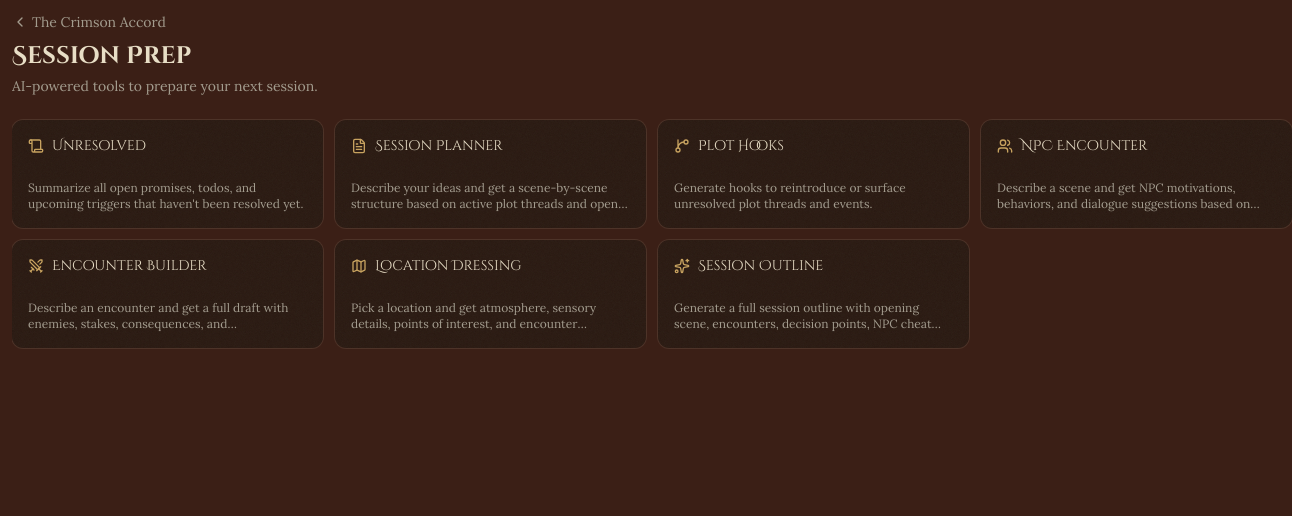
SessionPrep › shows loading state while generating
Click the text "Unresolved". click: (168, 174)
box: x1=12 y1=120 x2=323 y2=228
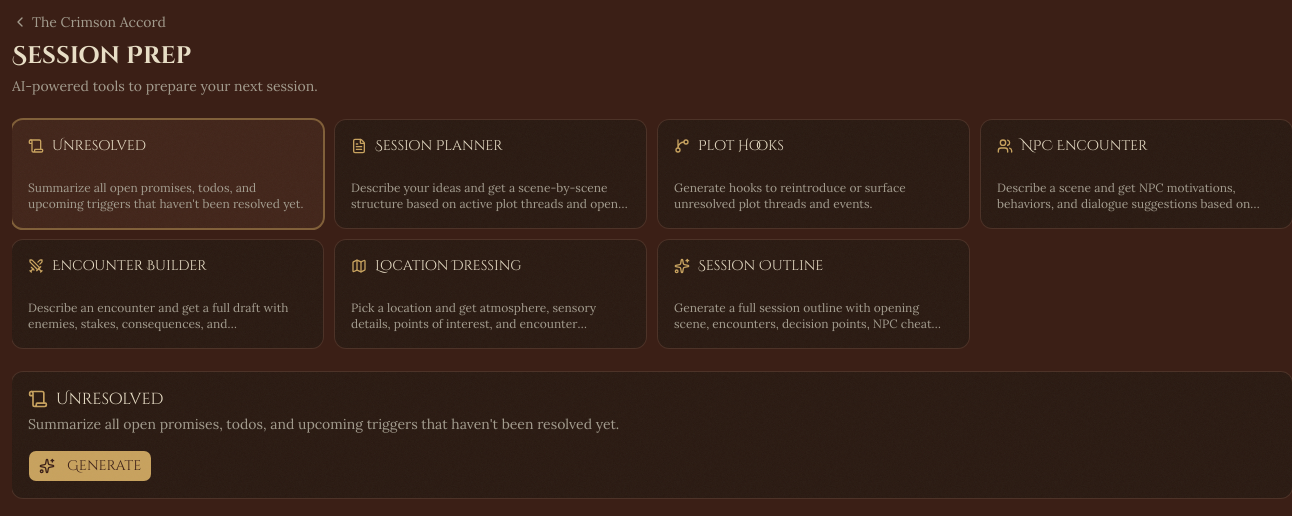
Click the button "Generate". click: (90, 466)
box: x1=28 y1=450 x2=152 y2=482
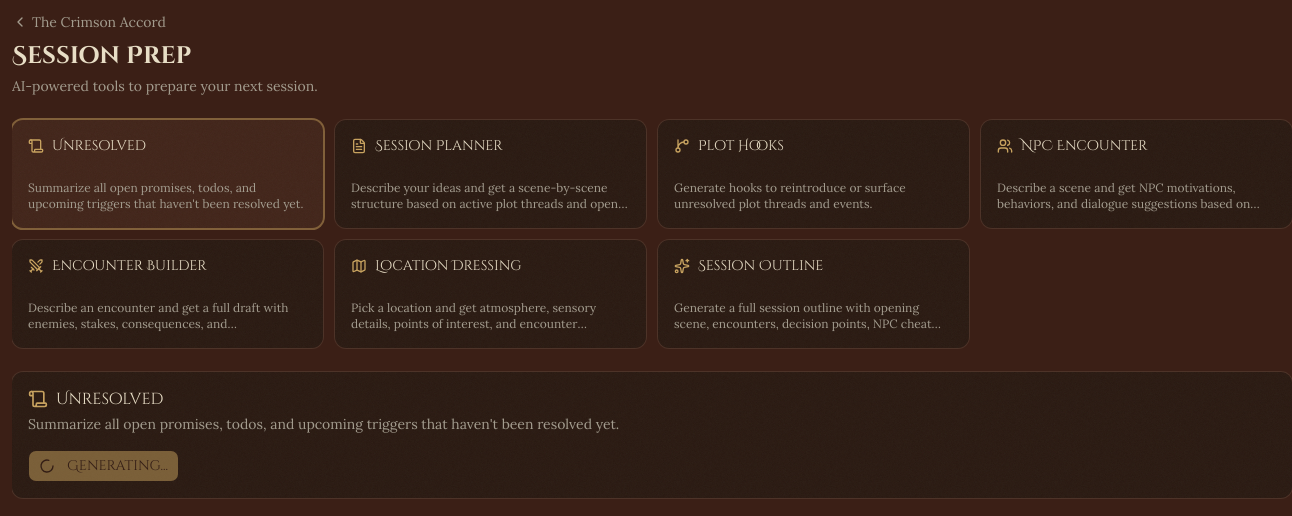
Expected: the button "Generating..." is shown, x1=28 y1=450 x2=179 y2=482
